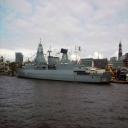Fragata: (13, 36, 115, 86)
